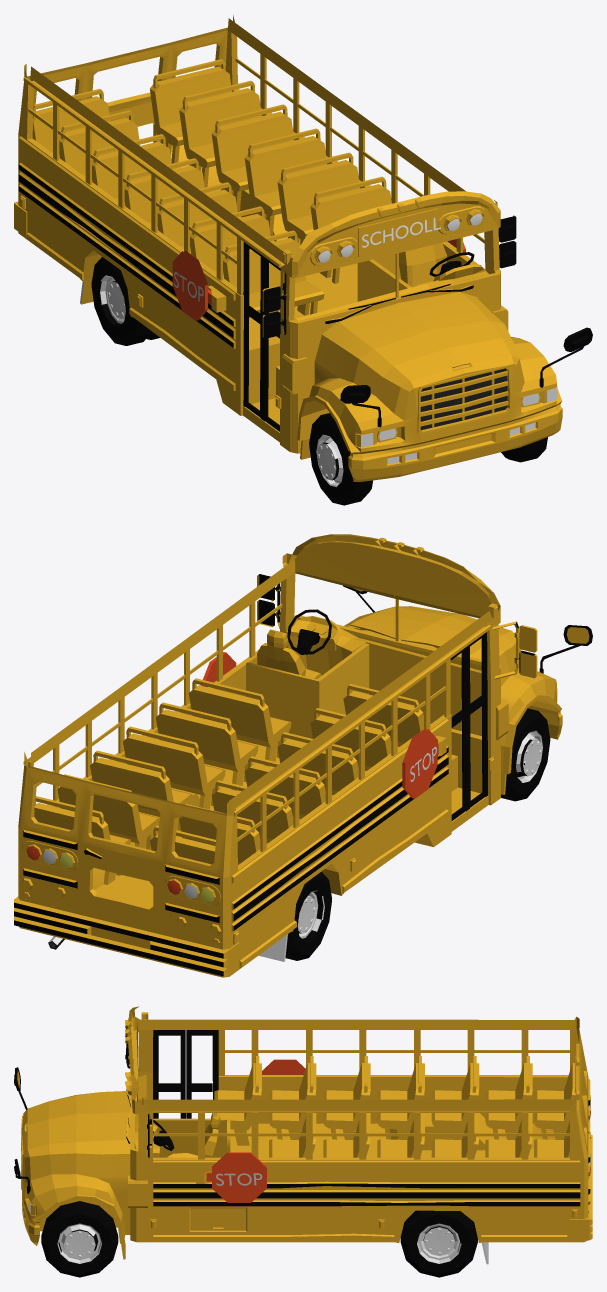
The model's file is tekeroldubusefer.fbx.
The picture shows the model from 3 angles, top to bottom: view 1: azimuth 30°, elevation 25°; view 2: azimuth 150°, elevation 25°; view 3: azimuth 270°, elevation 25°; orthographic projection. The views are drawn at different scales.
Visible parts, largest first — view 1: SM_Veh_SchoolBus_01, SM_Veh_SchoolBus_01.002, SM_Veh_SchoolBus_Wheel_fr, SM_Veh_SchoolBus_Wheel_rr, SM_Veh_SchoolBus_01.021, SM_Veh_SchoolBus_Sign_r, SM_Veh_SchoolBus_Door_01, SM_Veh_SchoolBus_01.003, SM_Veh_SchoolBus_Wheel_fr.001, SM_Veh_SchoolBus_01.004, SM_Veh_SchoolBus_Door_02, SM_Veh_SchoolBus_Wheel_rr.001 (+1 smaller); view 2: SM_Veh_SchoolBus_01, SM_Veh_SchoolBus_01.002, SM_Veh_SchoolBus_01.038, SM_Veh_SchoolBus_Wheel_fr, SM_Veh_SchoolBus_Wheel_rr, SM_Veh_SchoolBus_Door_02, SM_Veh_SchoolBus_Sign_r, SM_Veh_SchoolBus_01.036, SM_Veh_SchoolBus_Door_01, SM_Veh_SchoolBus_Wheel_fr.001, SM_Veh_SchoolBus_SteeringW, SM_Veh_SchoolBus_Wheel_rr.001 (+1 smaller); view 3: SM_Veh_SchoolBus_01, SM_Veh_SchoolBus_01.001, SM_Veh_SchoolBus_Wheel_fl, SM_Veh_SchoolBus_Wheel_rl, SM_Veh_SchoolBus_Sign_l, SM_Veh_SchoolBus_Wheel_rl.001, SM_Veh_SchoolBus_Wheel_fl.001, SM_Veh_SchoolBus_Door_02, SM_Veh_SchoolBus_Door_01, SM_Veh_SchoolBus_Sign_r.
Boxes of the visible parts, x1=… form: SM_Veh_SchoolBus_01: x1=14, y1=15, x2=582, y2=481; SM_Veh_SchoolBus_01.002: x1=18, y1=164, x2=233, y2=347; SM_Veh_SchoolBus_Wheel_fr: x1=309, y1=413, x2=372, y2=505; SM_Veh_SchoolBus_Wheel_rr: x1=91, y1=257, x2=160, y2=345; SM_Veh_SchoolBus_01.021: x1=420, y1=368, x2=507, y2=429; SM_Veh_SchoolBus_Sign_r: x1=172, y1=250, x2=211, y2=320; SM_Veh_SchoolBus_Door_01: x1=243, y1=242, x2=263, y2=419; SM_Veh_SchoolBus_01.003: x1=263, y1=271, x2=286, y2=338; SM_Veh_SchoolBus_Wheel_fr.001: x1=316, y1=434, x2=343, y2=487; SM_Veh_SchoolBus_01.004: x1=498, y1=216, x2=516, y2=268; SM_Veh_SchoolBus_Door_02: x1=262, y1=257, x2=280, y2=431; SM_Veh_SchoolBus_Wheel_rr.001: x1=100, y1=275, x2=125, y2=323; SM_Veh_SchoolBus_01: x1=14, y1=534, x2=589, y2=977; SM_Veh_SchoolBus_01.002: x1=233, y1=747, x2=448, y2=930; SM_Veh_SchoolBus_01.038: x1=14, y1=902, x2=223, y2=976; SM_Veh_SchoolBus_Wheel_fr: x1=501, y1=708, x2=550, y2=801; SM_Veh_SchoolBus_Wheel_rr: x1=285, y1=871, x2=331, y2=960; SM_Veh_SchoolBus_Door_02: x1=467, y1=632, x2=487, y2=809; SM_Veh_SchoolBus_Sign_r: x1=402, y1=728, x2=438, y2=798; SM_Veh_SchoolBus_01.036: x1=23, y1=830, x2=219, y2=922; SM_Veh_SchoolBus_Door_01: x1=450, y1=647, x2=467, y2=820; SM_Veh_SchoolBus_Wheel_fr.001: x1=516, y1=730, x2=542, y2=782; SM_Veh_SchoolBus_SteeringW: x1=287, y1=609, x2=331, y2=654; SM_Veh_SchoolBus_Wheel_rr.001: x1=297, y1=890, x2=324, y2=938; SM_Veh_SchoolBus_01: x1=17, y1=1006, x2=592, y2=1259; SM_Veh_SchoolBus_01.001: x1=153, y1=1183, x2=580, y2=1206; SM_Veh_SchoolBus_Wheel_fl: x1=41, y1=1201, x2=118, y2=1277; SM_Veh_SchoolBus_Wheel_rl: x1=400, y1=1210, x2=477, y2=1277; SM_Veh_SchoolBus_Sign_l: x1=204, y1=1152, x2=266, y2=1202; SM_Veh_SchoolBus_Wheel_rl.001: x1=417, y1=1223, x2=461, y2=1263; SM_Veh_SchoolBus_Wheel_fl.001: x1=57, y1=1223, x2=102, y2=1263; SM_Veh_SchoolBus_Door_02: x1=153, y1=1030, x2=185, y2=1118; SM_Veh_SchoolBus_Door_01: x1=186, y1=1030, x2=218, y2=1118; SM_Veh_SchoolBus_Sign_r: x1=262, y1=1059, x2=305, y2=1074.
Size of the model in its own units: 354 by 323 by 809.
